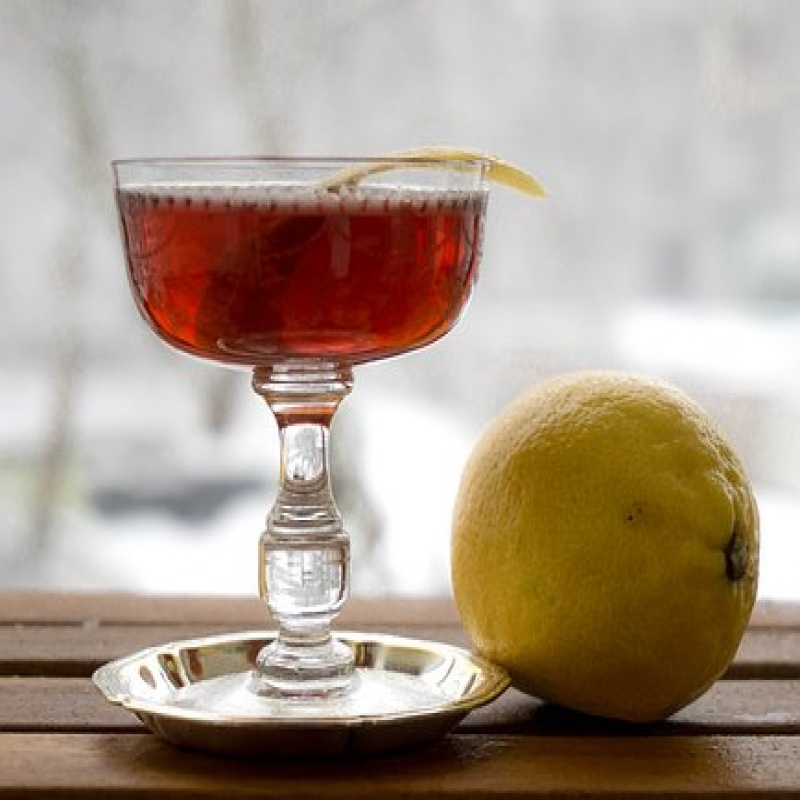whiskey: (102, 127, 505, 392)
